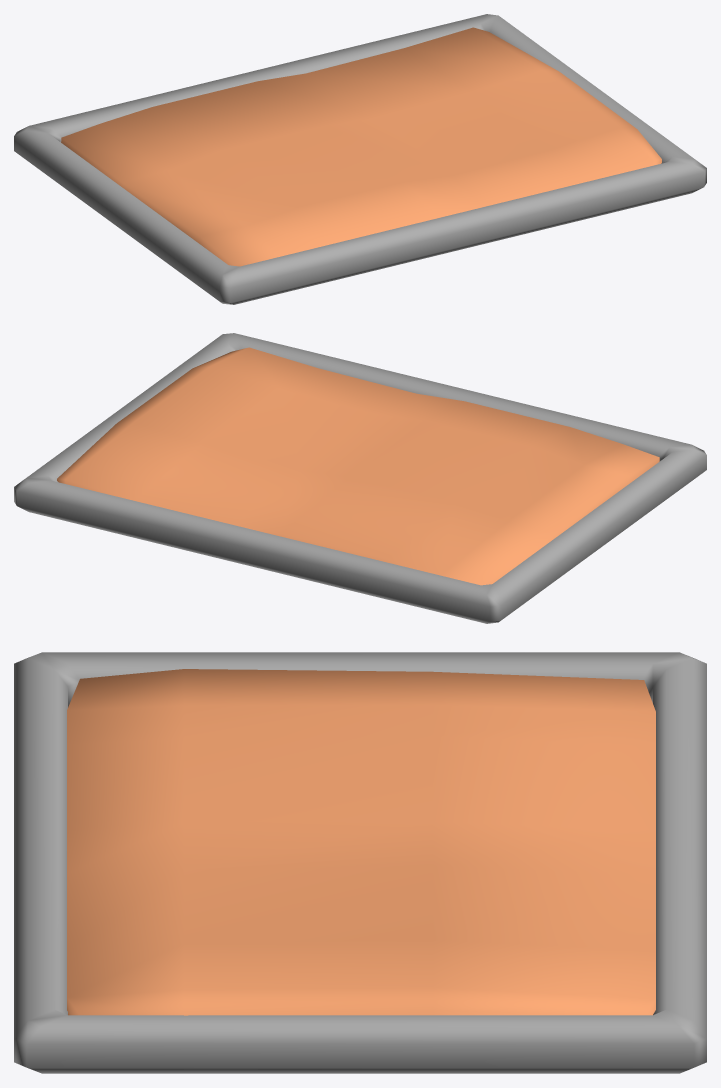
The model's file is FieldLow.fbx.
The picture shows the model from 3 angles, top to bottom: view 1: azimuth 30°, elevation 25°; view 2: azimuth 150°, elevation 25°; view 3: azimuth 270°, elevation 25°; orthographic projection. The views are drawn at different scales.
Visible parts, largest first — view 1: pCube3; view 2: pCube3; view 3: pCube3.
Boxes of the visible parts, x1,y1,x2,y2 form: pCube3: (14,14,706,304); pCube3: (14,333,706,623); pCube3: (14,652,706,1073).
Bounding box in the file's own units: 5.99 × 0.5608 × 4.54.
2 materials, 1 textured.
